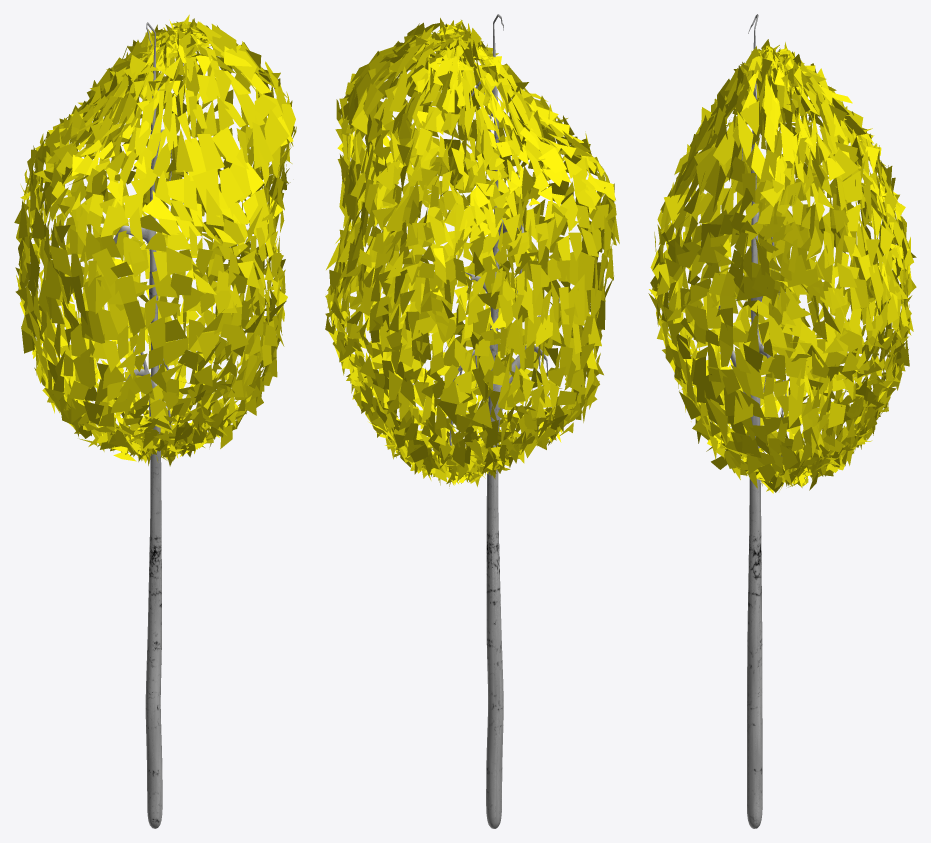
Rendered from Leaves45.001.fbx.
3 views of the same model, side by side, from view 1: azimuth 30°, elevation 25°; view 2: azimuth 150°, elevation 25°; view 3: azimuth 270°, elevation 25° (orthographic).
Parts seen in each view (by area): view 1: Leaves45.001; view 2: Leaves45.001; view 3: Leaves45.001.
Boxes of the visible parts, x1,y1,x2,y2 form: Leaves45.001: [14, 14, 296, 828]; Leaves45.001: [325, 14, 619, 828]; Leaves45.001: [648, 14, 916, 828].
Bounding box in the file's own units: 873 × 2612 × 783.
2 materials, 1 textured.
